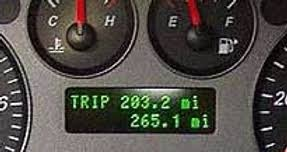Digital_Meter: (63, 88, 215, 133)
